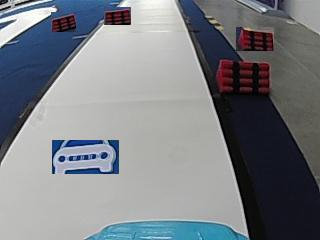bomb: (217, 61, 272, 93)
